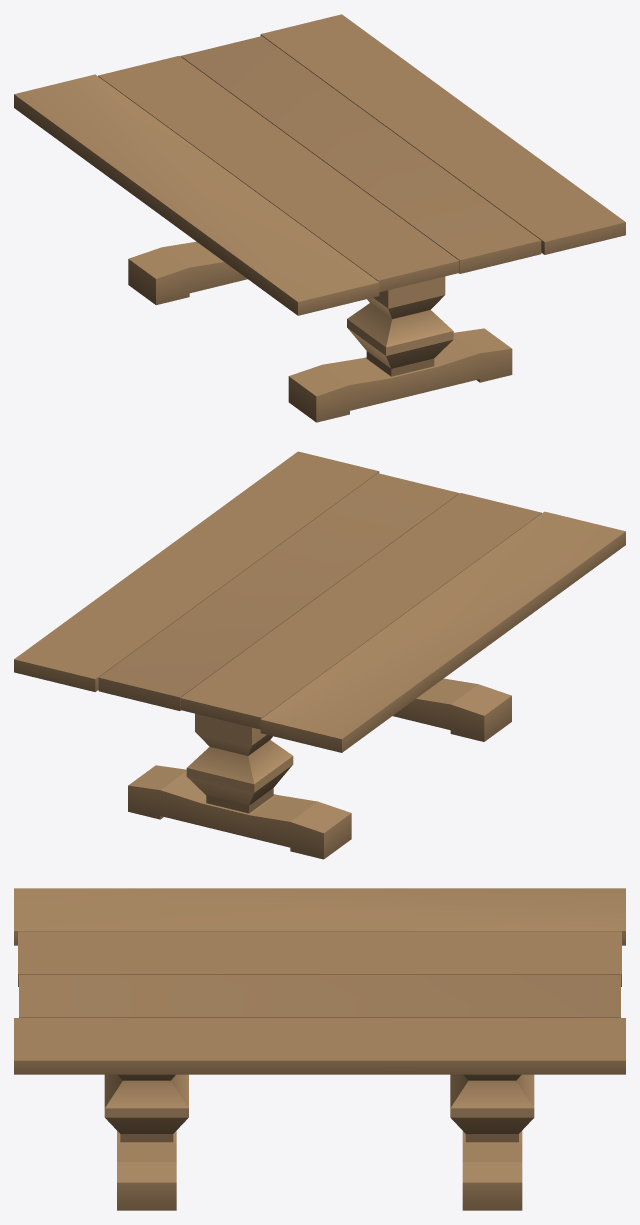
The model's file is table32.glb.
3 renders of one model, top to bottom at view 1: azimuth 30°, elevation 25°; view 2: azimuth 150°, elevation 25°; view 3: azimuth 270°, elevation 25°, orthographic. The views are drawn at different scales.
Visible parts, largest first — view 1: Cube.004; view 2: Cube.004; view 3: Cube.004.
Boxes of the visible parts, x1,y1,x2,y2 form: Cube.004: (14,14,625,422); Cube.004: (14,451,625,859); Cube.004: (14,888,625,1210).
Bounding box in the file's own units: 2 × 1 × 3.
